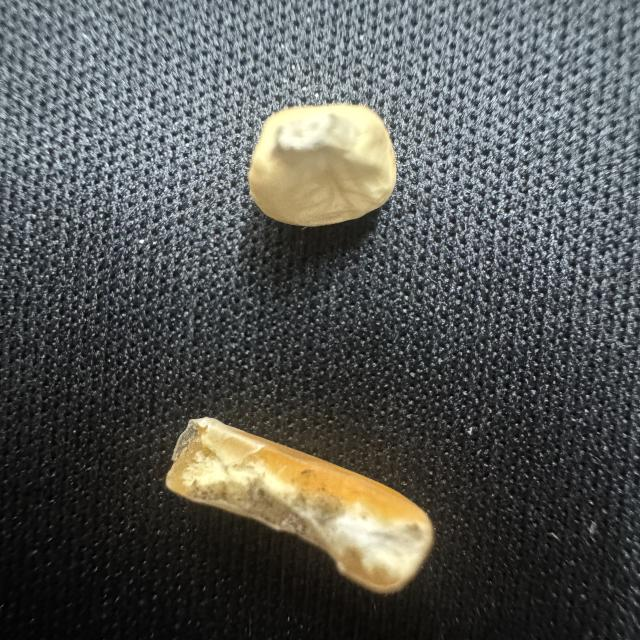Bad-Seed: (148, 408, 444, 591), (240, 95, 406, 232)
